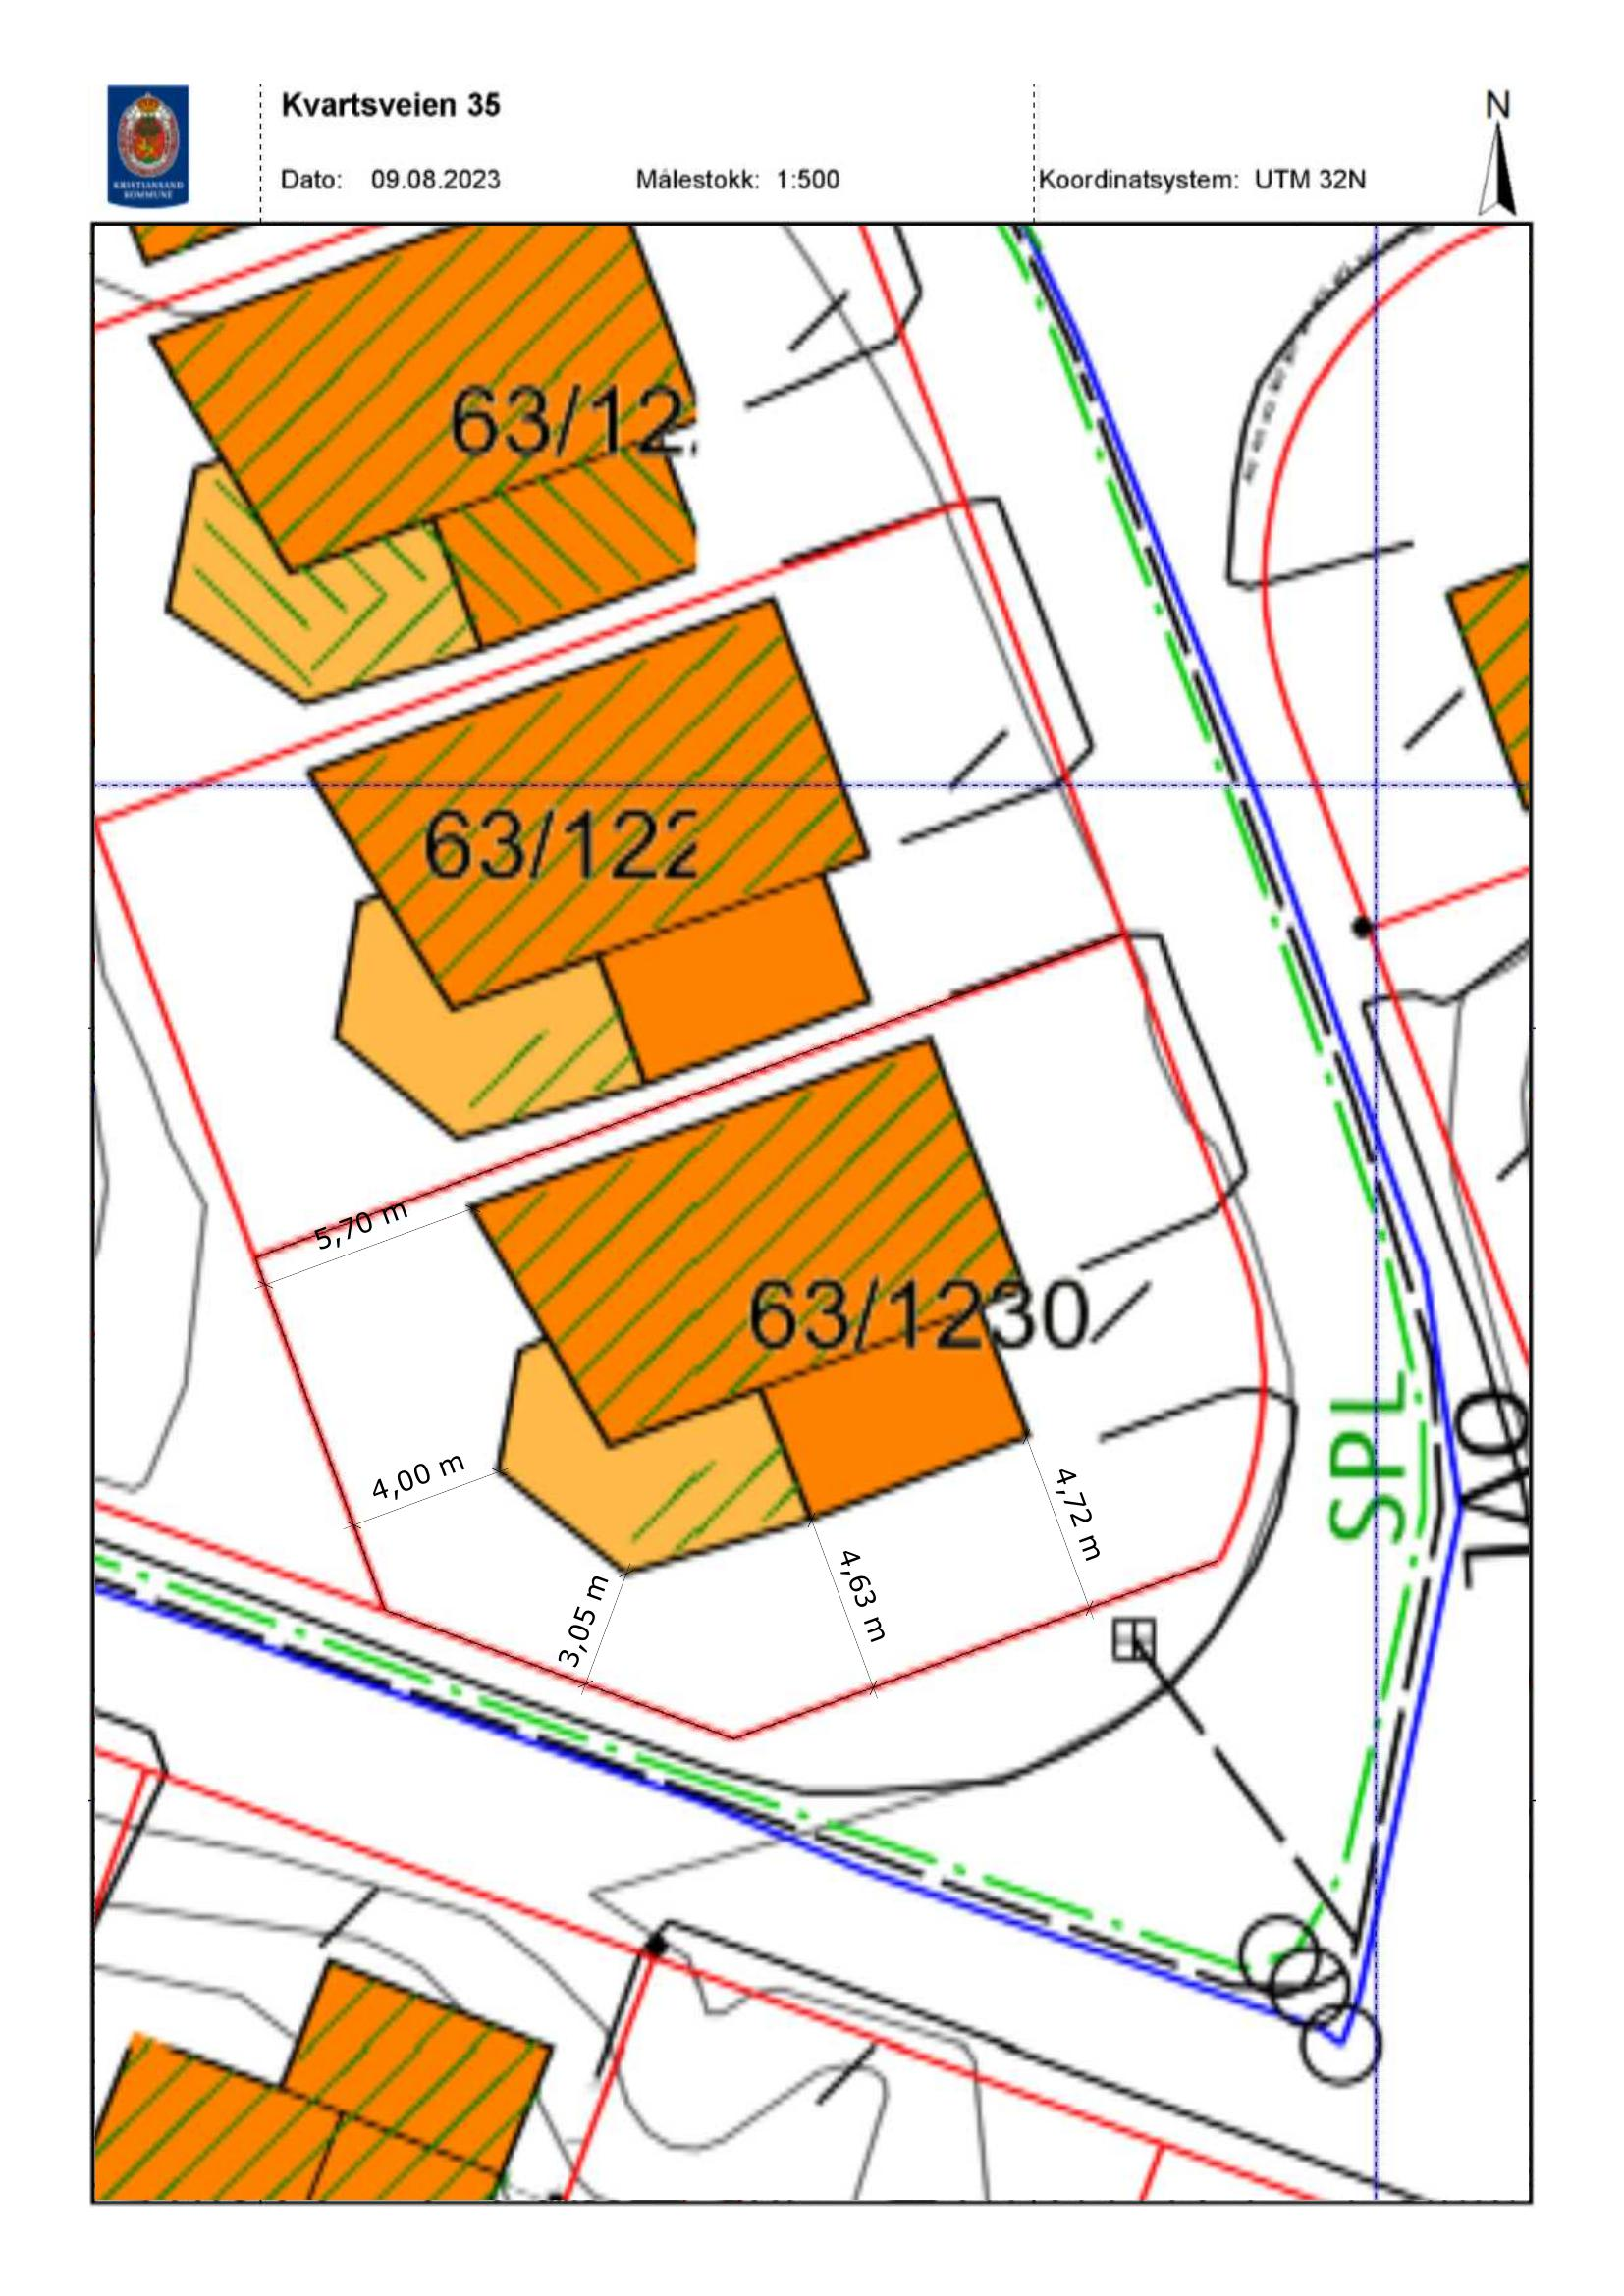situasjonskart: (90, 228, 1534, 2208)
